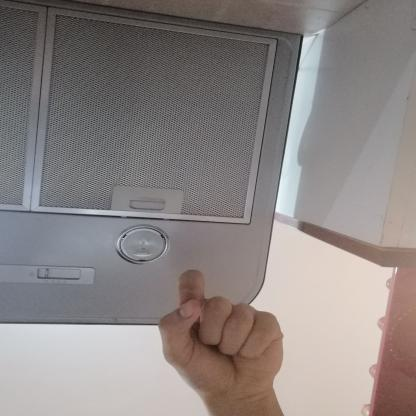FAA: (143, 261, 304, 411)
